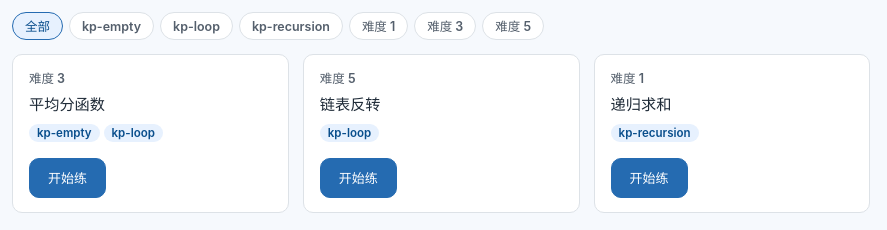
Scenario: QuestionCardGrid (P1-1) › resets the filter via the 全部 chip
The image size is (887, 230).
What coordinates should you click on to do the following:
click the button "kp-recursion"
I would click on:
 (291, 26)
Its box is top-left (239, 12), bottom-right (343, 40).
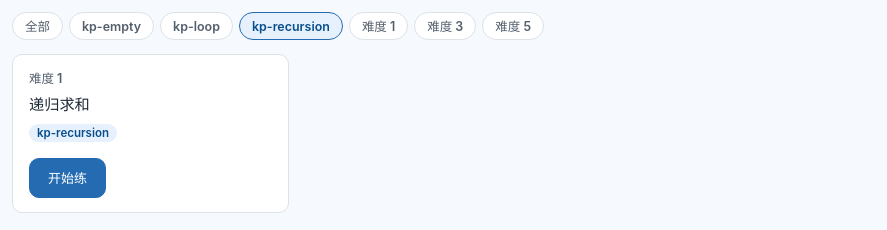
Expected: the number of buttons "开始练" is 1, top-left (29, 158), bottom-right (106, 198)
What coordinates should you click on to do the following:
click the button "全部"
I would click on:
 (38, 26)
Its box is top-left (12, 12), bottom-right (63, 40).
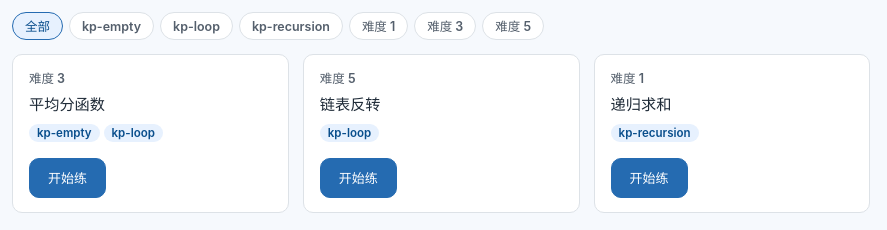
Result: the number of buttons "开始练" is 3 at top-left (29, 158), bottom-right (106, 198); top-left (320, 158), bottom-right (397, 198); top-left (611, 158), bottom-right (688, 198)
